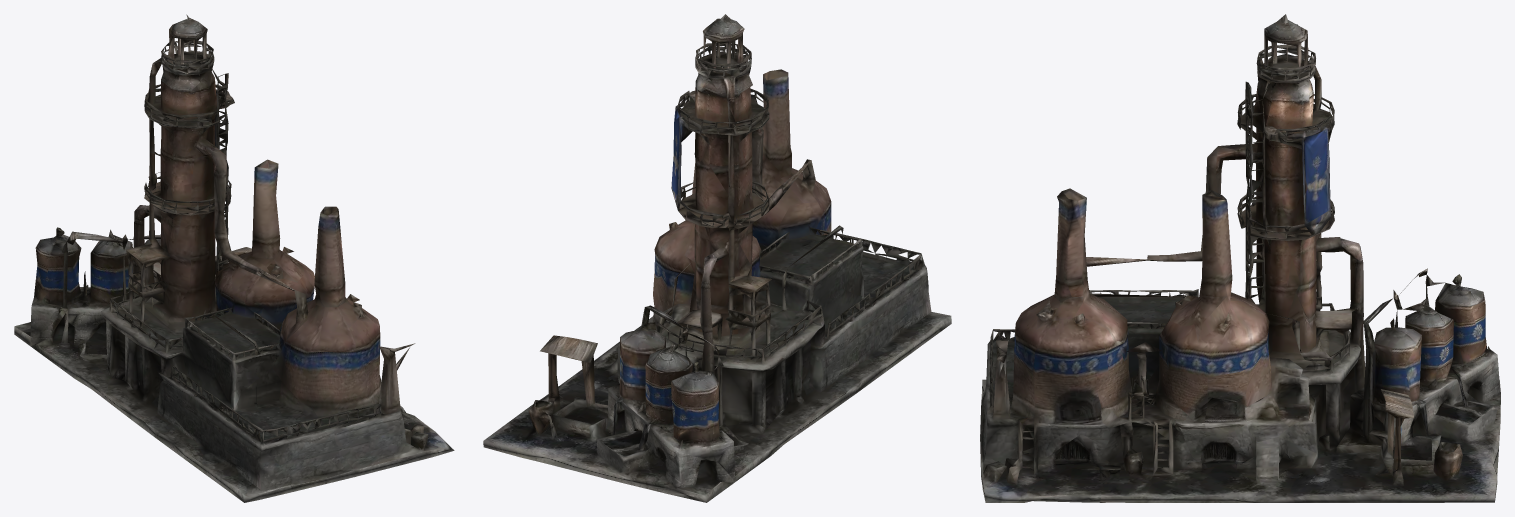
The model's file is oil_refinery_0.glb.
The picture shows the model from 3 angles, left to right: view 1: azimuth 30°, elevation 25°; view 2: azimuth 150°, elevation 25°; view 3: azimuth 270°, elevation 25°; orthographic projection. The views are drawn at different scales.
Visible parts, largest first — view 1: tripo_node_0e3aa904-f49c-40f1-8eb8-bcd65736ea18; view 2: tripo_node_0e3aa904-f49c-40f1-8eb8-bcd65736ea18; view 3: tripo_node_0e3aa904-f49c-40f1-8eb8-bcd65736ea18.
Part boxes in pixels (x1,y1,x2,y2): tripo_node_0e3aa904-f49c-40f1-8eb8-bcd65736ea18: (14, 14, 454, 502); tripo_node_0e3aa904-f49c-40f1-8eb8-bcd65736ea18: (483, 14, 951, 502); tripo_node_0e3aa904-f49c-40f1-8eb8-bcd65736ea18: (980, 14, 1500, 502).
Bounding box in the file's own units: 0.52 × 0.8501 × 0.9657.
1 material, 1 textured.
